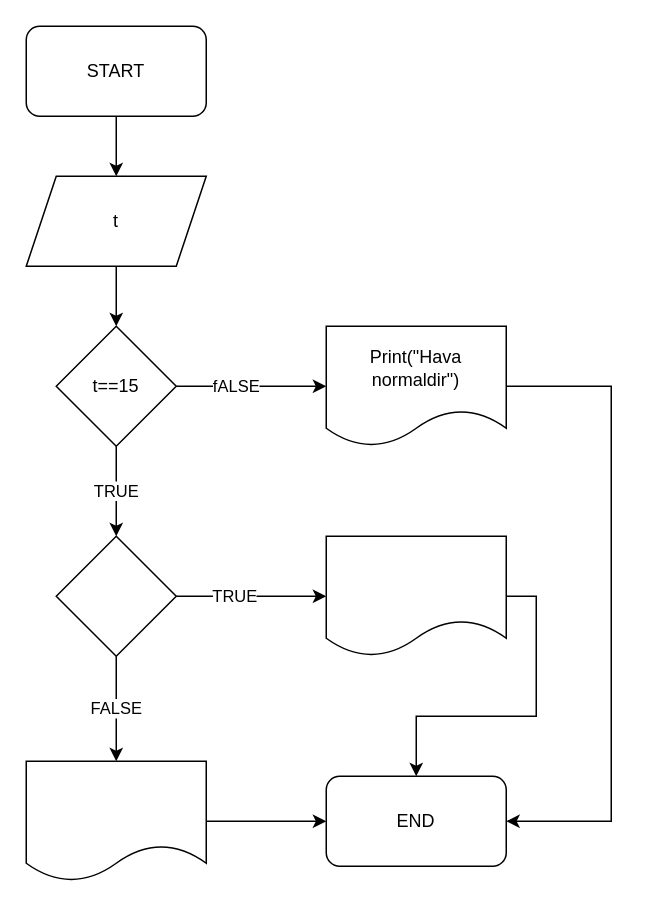
Image size: 650x908. Some labels were removed from this diagram. The shapes that lost their labels are listed below. From the top down, each one's centre as x and y in pixels, then its label:
[115,595]: t<15
[415,595]: Print ("Hava soyuqdur")
[115,820]: Print ("Hava istidir")
